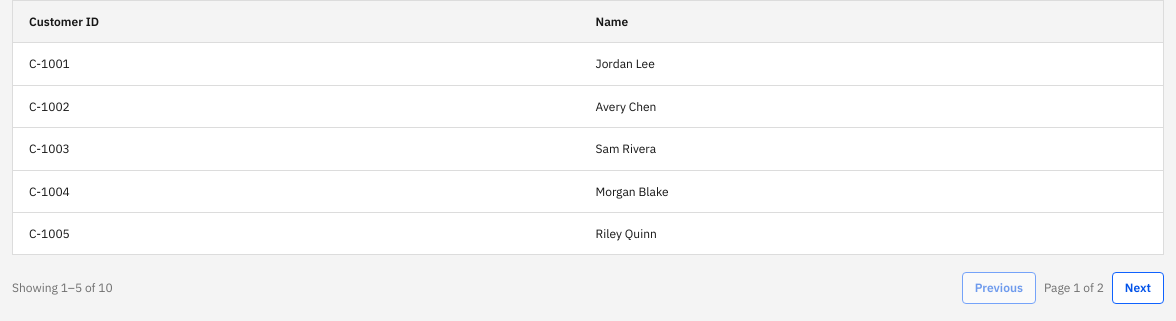
Test: DataTable › renders rows, sorts, and paginates
expect the text "C-1001" is shown: met, box [12,43,580,85]
Click the button "Name": [612, 22] box [596,13,628,30]
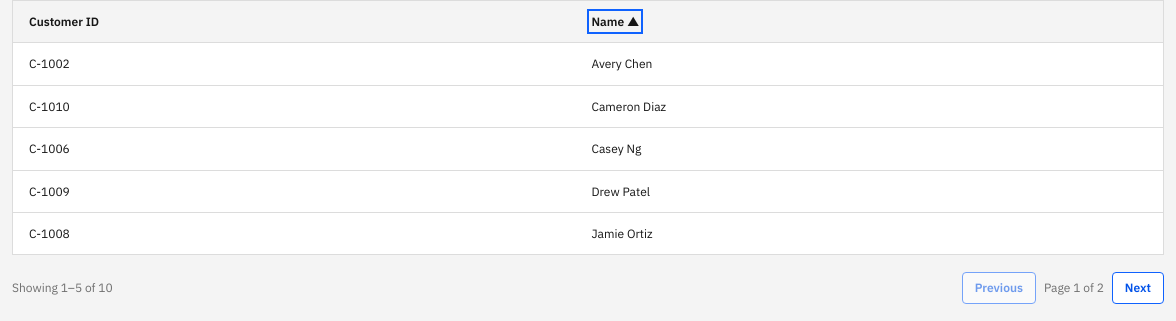
expect the column heading "Name ▲" has attribute aria-sort="ascending": met, box [576,0,1164,43]
Click the button "Next": [1138, 288] box [1112,272,1164,304]
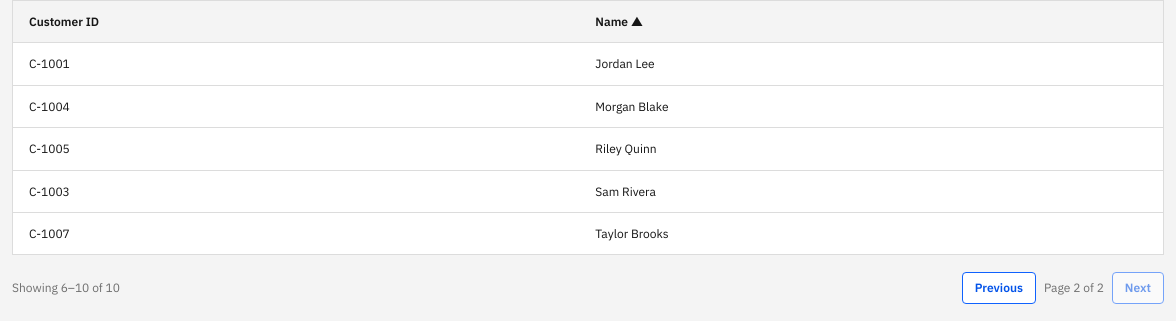
expect the text "Page 2 of 2" is shown: met, box [1044,279,1104,297]
